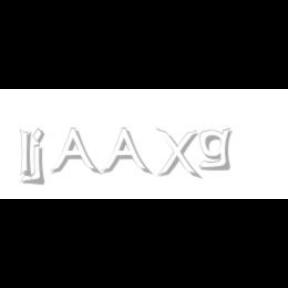A: (50, 128, 98, 176), (101, 128, 149, 176)
X: (155, 128, 199, 180)
g: (198, 128, 235, 171)
j: (30, 128, 58, 186)
l: (20, 128, 36, 180)
